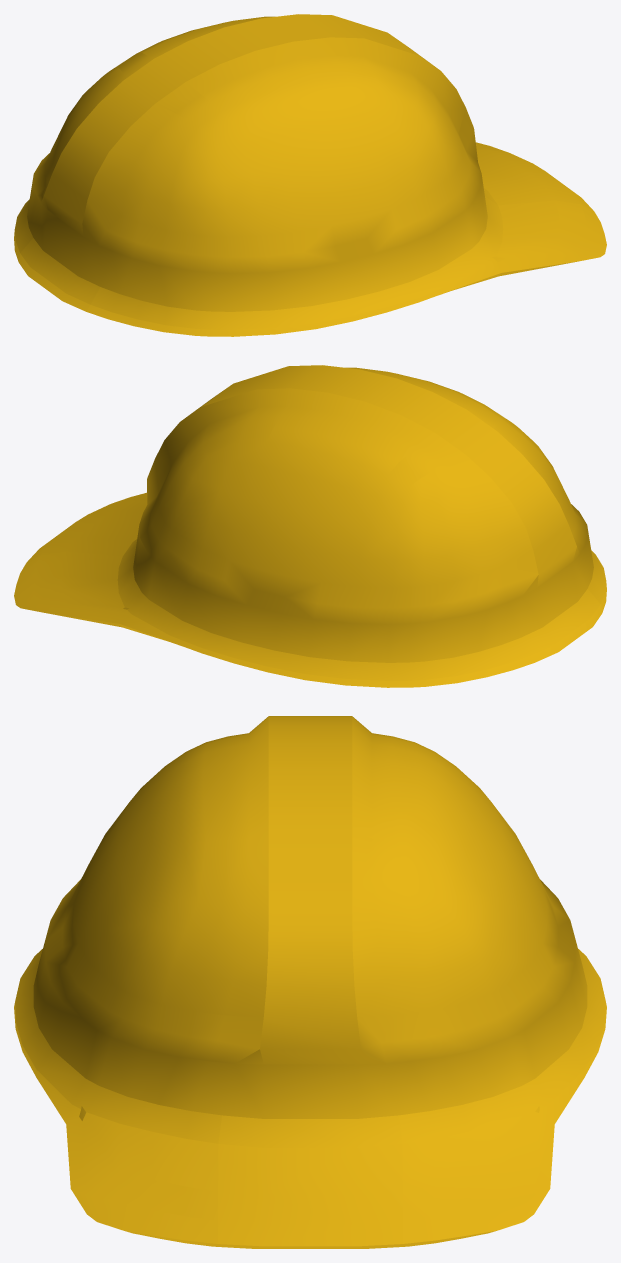
File: Hat.fbx
The picture shows the model from 3 angles, top to bottom: view 1: azimuth 30°, elevation 25°; view 2: azimuth 150°, elevation 25°; view 3: azimuth 270°, elevation 25°; orthographic projection. The views are drawn at different scales.
Visible parts, largest first — view 1: hat; view 2: hat; view 3: hat.
Part boxes in pixels (<box>): hat: <box>14,14,606,336</box>; hat: <box>14,365,606,687</box>; hat: <box>14,716,606,1248</box>.
Bounding box in the file's own units: 0.471 × 0.1998 × 0.3544.
